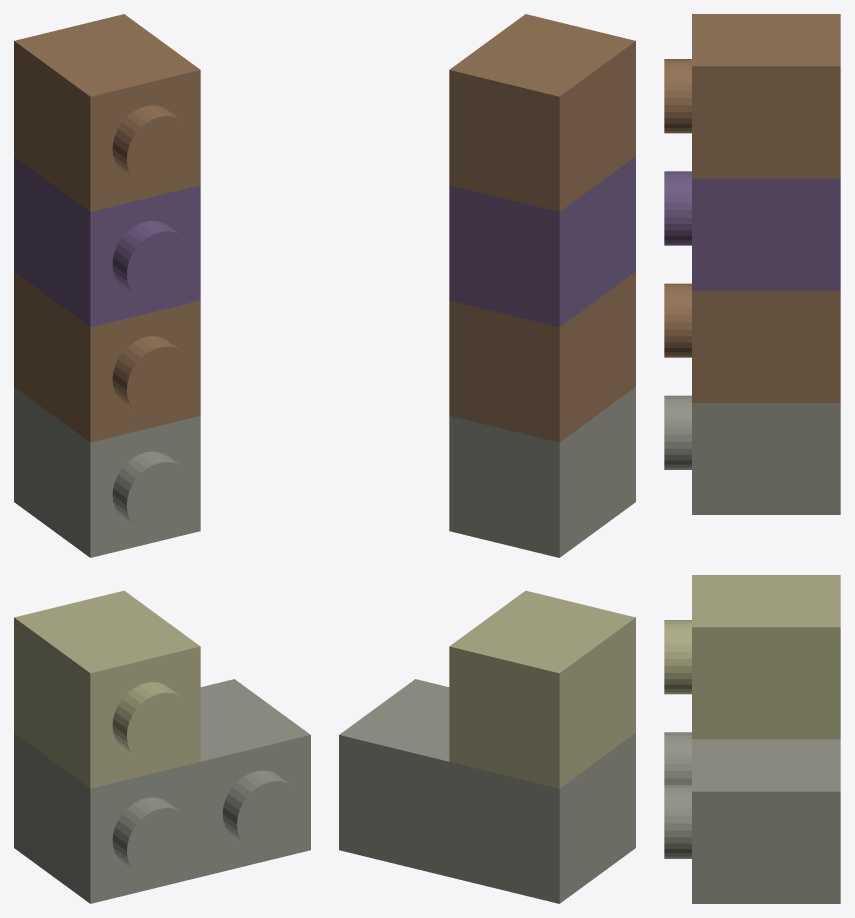
File: current.glb
3 renders of one model, left to right at view 1: azimuth 30°, elevation 25°; view 2: azimuth 150°, elevation 25°; view 3: azimuth 270°, elevation 25°, orthographic. The views are drawn at different scales.
Visible parts, largest first — view 1: world; view 2: world; view 3: world.
Part boxes in pixels (<box>): world: <box>14,14,310,903</box>; world: <box>339,14,635,903</box>; world: <box>664,14,840,903</box>.
Bounding box in the file's own units: 16 × 56 × 11.4.
